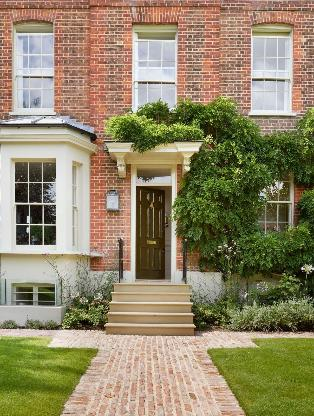door: (132, 182, 173, 285)
stair: (104, 279, 199, 338)
